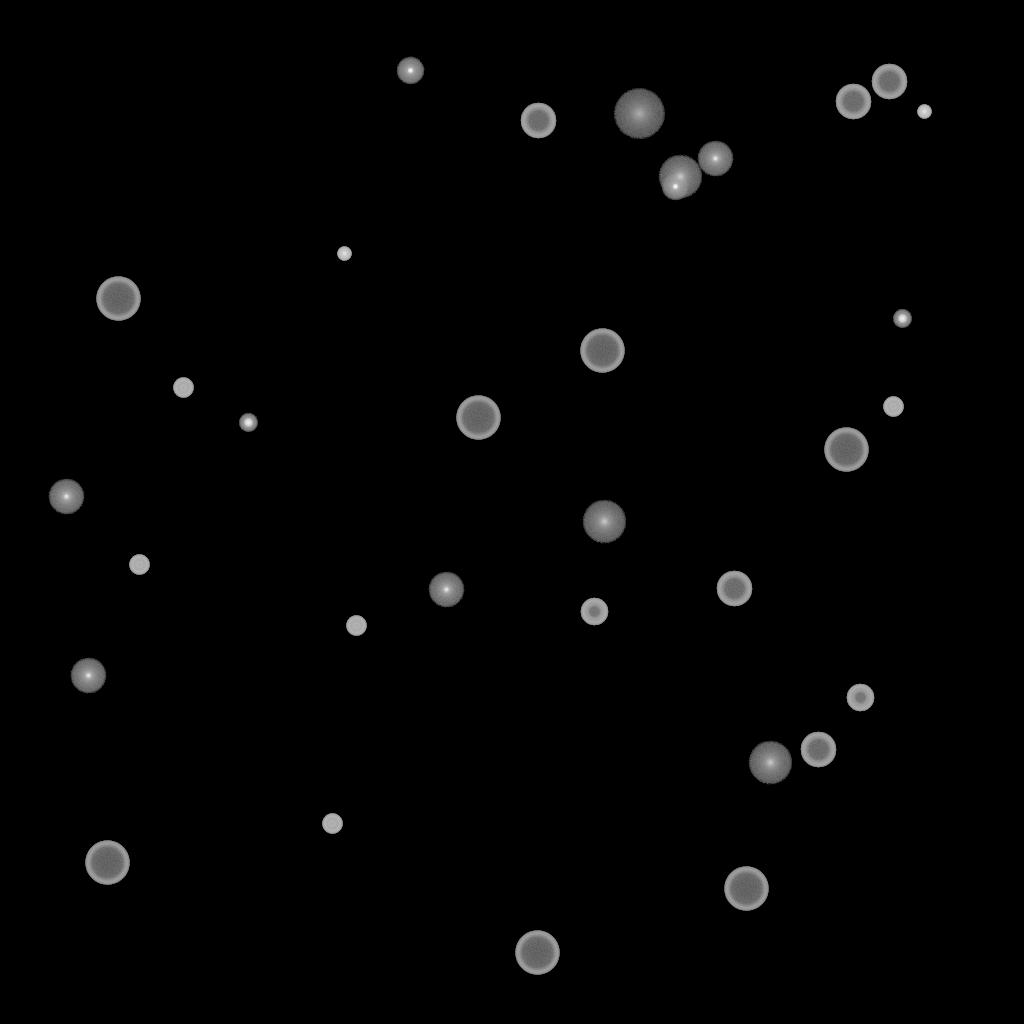depth:-10: (396, 57, 424, 85), (661, 173, 689, 201)
depth:-20: (239, 414, 257, 432), (893, 310, 911, 328)
depth:-30: (337, 247, 351, 261), (917, 105, 931, 119)
depth:-40: (173, 378, 193, 398), (883, 397, 903, 417), (129, 555, 149, 575), (322, 814, 342, 834), (346, 616, 366, 636)
depth:-50: (580, 598, 608, 626), (846, 684, 874, 712)
depth:-60: (835, 84, 871, 120), (716, 571, 752, 607), (871, 64, 907, 100), (520, 103, 556, 139), (800, 732, 836, 768)
depth:-70: (456, 396, 500, 440), (96, 277, 140, 321), (824, 428, 868, 472), (85, 841, 129, 885), (580, 329, 624, 373), (724, 867, 768, 911), (515, 931, 559, 975)
depth:0: (697, 141, 733, 177), (48, 479, 84, 515), (70, 658, 106, 694), (428, 572, 464, 608)
depth:10: (582, 500, 626, 544), (748, 741, 792, 785), (658, 155, 702, 199)
depth:20: (613, 89, 665, 139)
